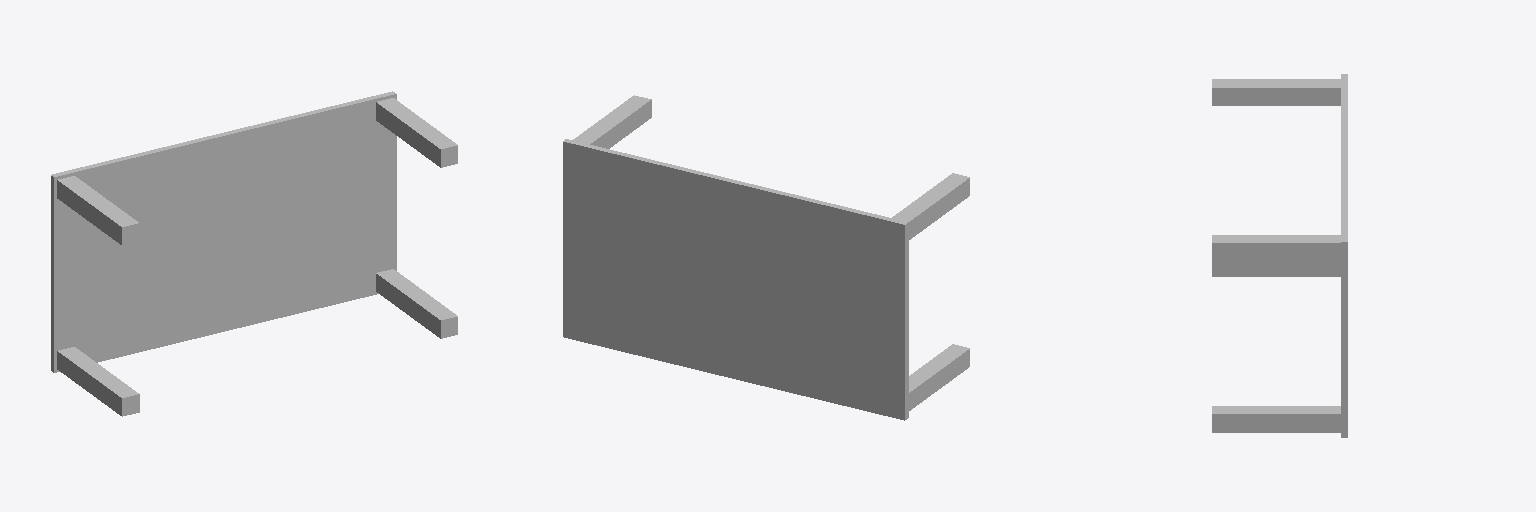
The model's file is random_table81.obj.
The picture shows the model from 3 angles: view 1: azimuth 30°, elevation 25°; view 2: azimuth 150°, elevation 25°; view 3: azimuth 270°, elevation 25°; orthographic projection.
Visible parts, largest first — view 1: Table_Cube.1470, TableLeg3_Cube.1474, TableLeg1_Cube.1472, TableLeg0_Cube.1471, TableLeg2_Cube.1473; view 2: Table_Cube.1470, TableLeg1_Cube.1472, TableLeg0_Cube.1471, TableLeg3_Cube.1474; view 3: TableLeg0_Cube.1471, TableLeg1_Cube.1472, TableLeg2_Cube.1473, Table_Cube.1470, TableLeg3_Cube.1474.
Boxes of the visible parts, x1=… form: Table_Cube.1470: x1=51, y1=91, x2=396, y2=372; TableLeg3_Cube.1474: x1=57, y1=347, x2=139, y2=416; TableLeg1_Cube.1472: x1=57, y1=176, x2=139, y2=245; TableLeg0_Cube.1471: x1=376, y1=98, x2=457, y2=167; TableLeg2_Cube.1473: x1=376, y1=269, x2=457, y2=338; Table_Cube.1470: x1=563, y1=139, x2=908, y2=420; TableLeg1_Cube.1472: x1=892, y1=173, x2=969, y2=239; TableLeg0_Cube.1471: x1=573, y1=95, x2=651, y2=148; TableLeg3_Cube.1474: x1=909, y1=344, x2=969, y2=410; TableLeg0_Cube.1471: x1=1212, y1=235, x2=1340, y2=261; TableLeg1_Cube.1472: x1=1212, y1=79, x2=1340, y2=105; TableLeg2_Cube.1473: x1=1212, y1=406, x2=1340, y2=432; Table_Cube.1470: x1=1341, y1=74, x2=1347, y2=437; TableLeg3_Cube.1474: x1=1212, y1=262, x2=1340, y2=276.
Bounding box in the file's own units: 7.42 × 4.05 × 2.57.